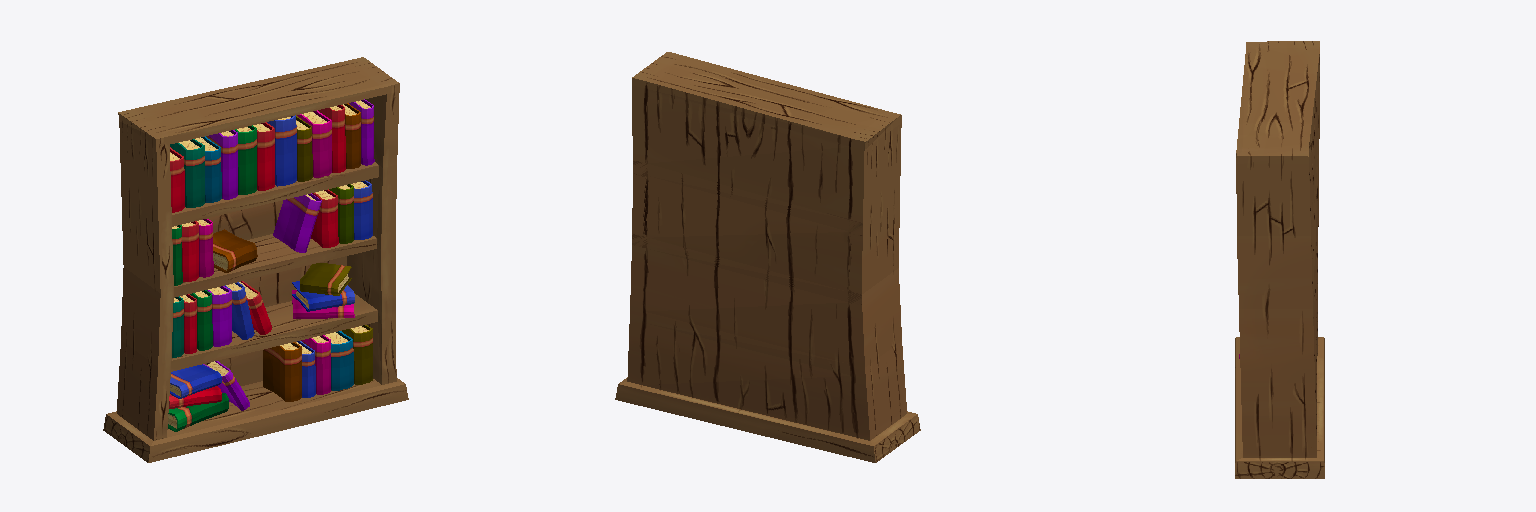
3 renders of one model, left to right at view 1: azimuth 30°, elevation 25°; view 2: azimuth 150°, elevation 25°; view 3: azimuth 270°, elevation 25°, orthographic.
Parts seen in each view (by area): view 1: Shelve.001, Cover.039, Cover.002, Cover.013, Cover.016, Cover.026, Cover.011, Cover.010, Cover.014, Cover.018, Cover.034, Cover.036 (+27 smaller); view 2: Shelve.001; view 3: Shelve.001.
Part boxes in pixels (x1,y1,x2,y2): Shelve.001: (103, 57, 408, 462); Cover.039: (263, 342, 301, 401); Cover.002: (273, 193, 321, 252); Cover.013: (267, 115, 296, 186); Cover.016: (170, 139, 204, 207); Cover.026: (300, 263, 351, 295); Cover.011: (235, 125, 256, 194); Cover.010: (213, 229, 257, 272); Cover.014: (206, 130, 237, 199); Cover.018: (297, 110, 331, 177); Cover.034: (170, 364, 221, 398); Cover.036: (331, 331, 353, 390); Shelve.001: (615, 52, 920, 462); Shelve.001: (1235, 41, 1324, 478).
Bounding box in the file's own units: 36.97 × 43.15 × 11.09.
77 materials, 12 textured.